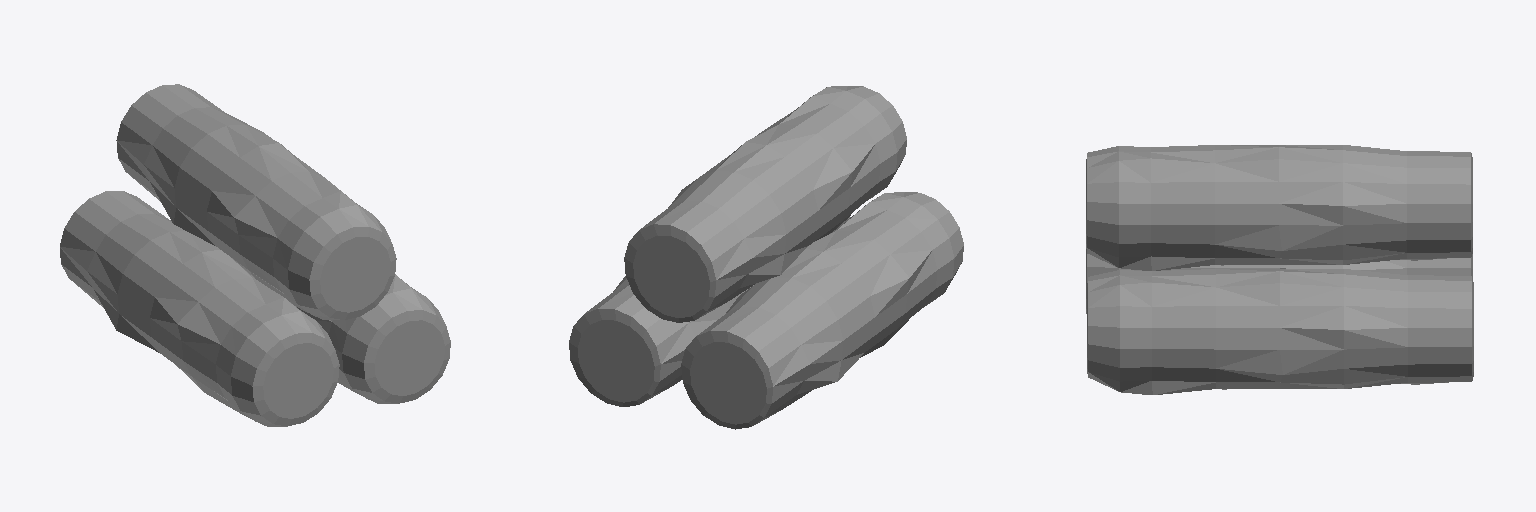
The model's file is madera.obj.
The picture shows the model from 3 angles: view 1: azimuth 30°, elevation 25°; view 2: azimuth 150°, elevation 25°; view 3: azimuth 270°, elevation 25°; orthographic projection.
Parts seen in each view (by area): view 1: default002, default, default001; view 2: default002, default, default001; view 3: default002, default001, default.
Part boxes in pixels (bbox=[...]): default002: bbox=[116, 84, 396, 319]; default: bbox=[60, 191, 339, 426]; default001: bbox=[297, 274, 450, 403]; default002: bbox=[624, 86, 906, 322]; default: bbox=[681, 192, 963, 429]; default001: bbox=[569, 217, 849, 406]; default002: bbox=[1086, 145, 1472, 270]; default001: bbox=[1087, 269, 1473, 394]; default: bbox=[1086, 249, 1472, 313].
Size of the model in its own units: 0.801 by 0.7624 by 1.22.